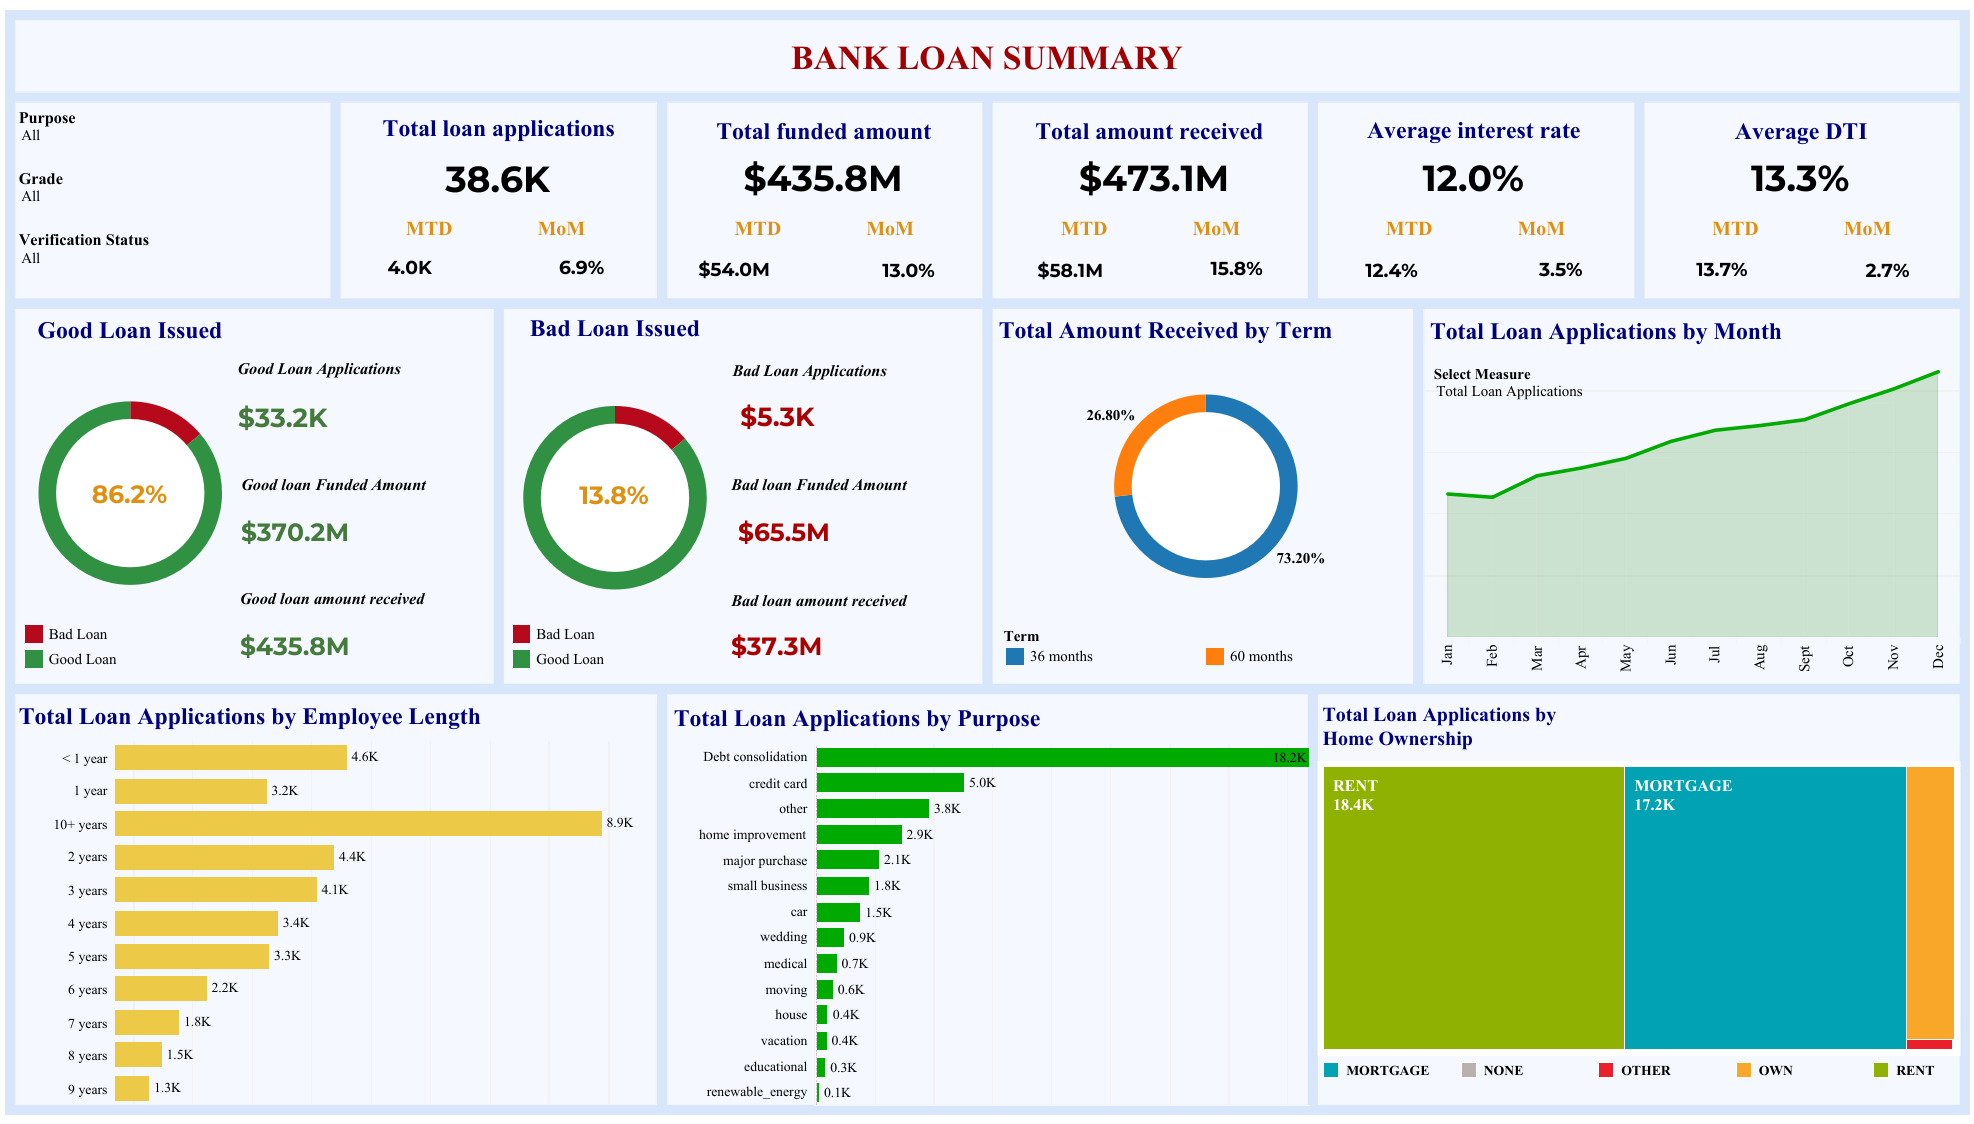

The dashboard page shown, as its layout file describes it:
{"tool":"tableau","page":{"name":"SUMMARY","canvas":[1580,900],"ordinal":1},"visuals":[{"type":"image","param":"Image/TB G 1.png","box":[0,0,1580,900]},{"type":"text","box":[12,19,1555,52]},{"type":"filter","title":"Good Loan Issued","param":"[federated.0wmhrxj0tr58yh112xllx0ekhztf].[none:purpose:nk]","box":[15,85,249,46]},{"type":"worksheet","title":"Total loan applications","mark":"Automatic","box":[271,86,256,76]},{"type":"worksheet","title":"Average interest rate","mark":"Automatic","box":[1052,87,254,74]},{"type":"worksheet","title":"Total funded amount","mark":"Automatic","box":[533,88,253,73]},{"type":"worksheet","title":"Total amount received","mark":"Automatic","box":[792,88,255,73]},{"type":"worksheet","title":"Average DTI","mark":"Automatic","box":[1313,88,256,72]},{"type":"filter","title":"Good Loan Issued","param":"[federated.0wmhrxj0tr58yh112xllx0ekhztf].[none:grade:nk]","box":[15,134,249,48]},{"type":"text","box":[269,168,255,29]},{"type":"text","box":[532,168,255,29]},{"type":"text","box":[793,168,255,29]},{"type":"text","box":[1053,168,255,29]},{"type":"text","box":[1314,168,255,29]},{"type":"filter","title":"Good Loan Issued","param":"[federated.0wmhrxj0tr58yh112xllx0ekhztf].[none:verification_status:nk]","box":[15,183,249,55]},{"type":"worksheet","title":"MTD Average interest rate","mark":"Automatic","box":[1059,194,110,43]},{"type":"worksheet","title":"MOM Total loan applications","mark":"Automatic","box":[415,195,102,37]},{"type":"worksheet","title":"MTD total amount received","mark":"Automatic","box":[785,195,139,42]},{"type":"worksheet","title":"MOM Avg DTI","mark":"Automatic","box":[1474,195,72,42]},{"type":"worksheet","title":"MTD Total loan applications","mark":"Automatic","box":[272,196,114,36]},{"type":"worksheet","title":"MTD Avg DTI","mark":"Automatic","box":[1324,196,109,40]},{"type":"worksheet","title":"MTD Total funded amount","mark":"Automatic","box":[517,197,143,38]},{"type":"worksheet","title":"MOM Total funded amount","mark":"Automatic","box":[689,197,76,40]},{"type":"worksheet","title":"MOM total amount received","mark":"Automatic","box":[934,197,111,36]},{"type":"worksheet","title":"MOM Average interest rate","mark":"Automatic","box":[1211,197,76,37]},{"type":"worksheet","title":"Bad Loan Issued","mark":"Pie","rows":["Calculation_1039487156939321345","Calculation_1039487156939321345"],"box":[372,246,240,267]},{"type":"worksheet","title":"Total Amount Received by Term","mark":"Pie","rows":["Calculation_1039487156939321345","Calculation_1039487156939321345"],"box":[795,247,339,247]},{"type":"worksheet","title":"Month","mark":"Area","rows":["Calculation_1039487156981358602","Calculation_1039487156981358602"],"cols":["issue_date"],"box":[1140,248,428,302]},{"type":"worksheet","title":"Good Loan Applications","mark":"Automatic","box":[186,281,210,75]},{"type":"worksheet","title":"Bad Loan Applications","mark":"Automatic","box":[582,283,242,72]},{"type":"parameter","param":"[Parameters].[Parameter 1]","box":[1147,291,191,48]},{"type":"worksheet","title":"Good Loan Applications %","mark":"Automatic","box":[54,362,99,66]},{"type":"worksheet","title":"Bad Loan Applications % ","mark":"Automatic","box":[442,369,99,55]},{"type":"worksheet","title":"Good loan Funded Amount","mark":"Automatic","box":[189,374,206,75]},{"type":"worksheet","title":"Bad loan Funded Amount","mark":"Automatic","box":[581,374,242,74]},{"type":"worksheet","title":"Good loan amount received","mark":"Automatic","box":[188,465,207,75]},{"type":"worksheet","title":"Bad loan amount received","mark":"Automatic","box":[581,467,241,70]},{"type":"legend","title":"Good Loan Issued","param":"[federated.0wmhrxj0tr58yh112xllx0ekhztf].[Loan Status (group)]","box":[17,497,121,46]},{"type":"legend","title":"Bad Loan Issued","param":"[federated.0wmhrxj0tr58yh112xllx0ekhztf].[Loan Status (group)]","box":[407,497,140,47]},{"type":"legend","title":"Total Amount Received by Term","param":"[federated.0wmhrxj0tr58yh112xllx0ekhztf].[none:term:nk]","box":[802,500,335,43]},{"type":"worksheet","title":"Emp Length","mark":"Automatic","rows":["emp_length"],"cols":["Calculation_1039487156981358602"],"box":[11,556,513,328]},{"type":"worksheet","title":"Home Ownership","mark":"Automatic","box":[1054,556,513,289]},{"type":"worksheet","title":"Purpose","mark":"Automatic","rows":["purpose"],"cols":["Calculation_1039487156981358602"],"box":[535,558,512,326]},{"type":"legend","title":"Home Ownership","param":"[federated.0wmhrxj0tr58yh112xllx0ekhztf].[none:home_ownership:nk]","box":[1055,846,496,38]}]}

Visuals, with their boxes in screenshot pixels (x1, y1, x2, y2), scaled from the page's 1580x900 canvas onto the 1974x1124 screenshot:
image: box(0, 0, 1973, 1123)
text: box(15, 24, 1958, 89)
"Good Loan Issued" filter: box(19, 106, 330, 164)
"Total loan applications" worksheet: box(339, 107, 658, 202)
"Average interest rate" worksheet: box(1314, 109, 1632, 201)
"Total funded amount" worksheet: box(666, 110, 982, 201)
"Total amount received" worksheet: box(989, 110, 1308, 201)
"Average DTI" worksheet: box(1640, 110, 1960, 200)
"Good Loan Issued" filter: box(19, 167, 330, 227)
text: box(336, 210, 655, 246)
text: box(665, 210, 983, 246)
text: box(991, 210, 1309, 246)
text: box(1316, 210, 1634, 246)
text: box(1642, 210, 1960, 246)
"Good Loan Issued" filter: box(19, 229, 330, 297)
"MTD Average interest rate" worksheet: box(1323, 242, 1461, 296)
"MOM Total loan applications" worksheet: box(518, 244, 646, 290)
"MTD total amount received" worksheet: box(981, 244, 1154, 296)
"MOM Avg DTI" worksheet: box(1842, 244, 1932, 296)
"MTD Total loan applications" worksheet: box(340, 245, 482, 290)
"MTD Avg DTI" worksheet: box(1654, 245, 1790, 295)
"MTD Total funded amount" worksheet: box(646, 246, 825, 293)
"MOM Total funded amount" worksheet: box(861, 246, 956, 296)
"MOM total amount received" worksheet: box(1167, 246, 1306, 291)
"MOM Average interest rate" worksheet: box(1513, 246, 1608, 292)
"Bad Loan Issued" worksheet (Pie marks): box(465, 307, 765, 641)
"Total Amount Received by Term" worksheet (Pie marks): box(993, 308, 1417, 617)
"Month" worksheet (Area marks): box(1424, 310, 1959, 687)
"Good Loan Applications" worksheet: box(232, 351, 495, 445)
"Bad Loan Applications" worksheet: box(727, 353, 1029, 443)
parameter: box(1433, 363, 1672, 423)
"Good Loan Applications %" worksheet: box(67, 452, 191, 535)
"Bad Loan Applications % " worksheet: box(552, 461, 676, 530)
"Good loan Funded Amount" worksheet: box(236, 467, 494, 561)
"Bad loan Funded Amount" worksheet: box(726, 467, 1028, 560)
"Good loan amount received" worksheet: box(235, 581, 494, 674)
"Bad loan amount received" worksheet: box(726, 583, 1027, 671)
"Good Loan Issued" legend: box(21, 621, 172, 678)
"Bad Loan Issued" legend: box(508, 621, 683, 679)
"Total Amount Received by Term" legend: box(1002, 624, 1421, 678)
"Emp Length" worksheet: box(14, 694, 655, 1104)
"Home Ownership" worksheet: box(1317, 694, 1958, 1055)
"Purpose" worksheet: box(668, 697, 1308, 1104)
"Home Ownership" legend: box(1318, 1057, 1938, 1104)
